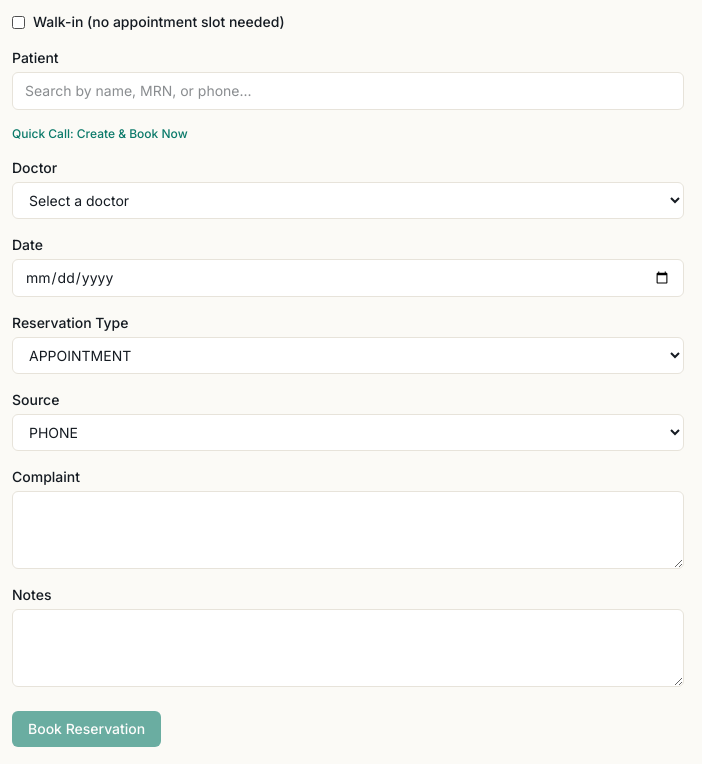
Test: CreateReservationForm › shows a plain no-results message for Search Patient, with no Quick Add Patient affordance
Type "Nobody" into the field labelled "Patient" at (348, 91), box x1=12 y1=72 x2=684 y2=110
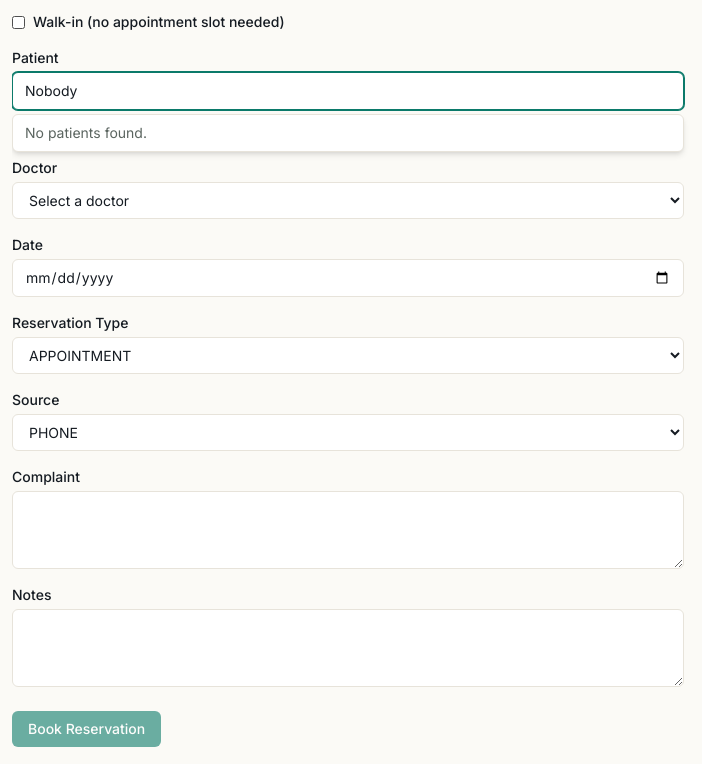
Expected: the text "No patients found." is shown, x1=25 y1=124 x2=147 y2=141
